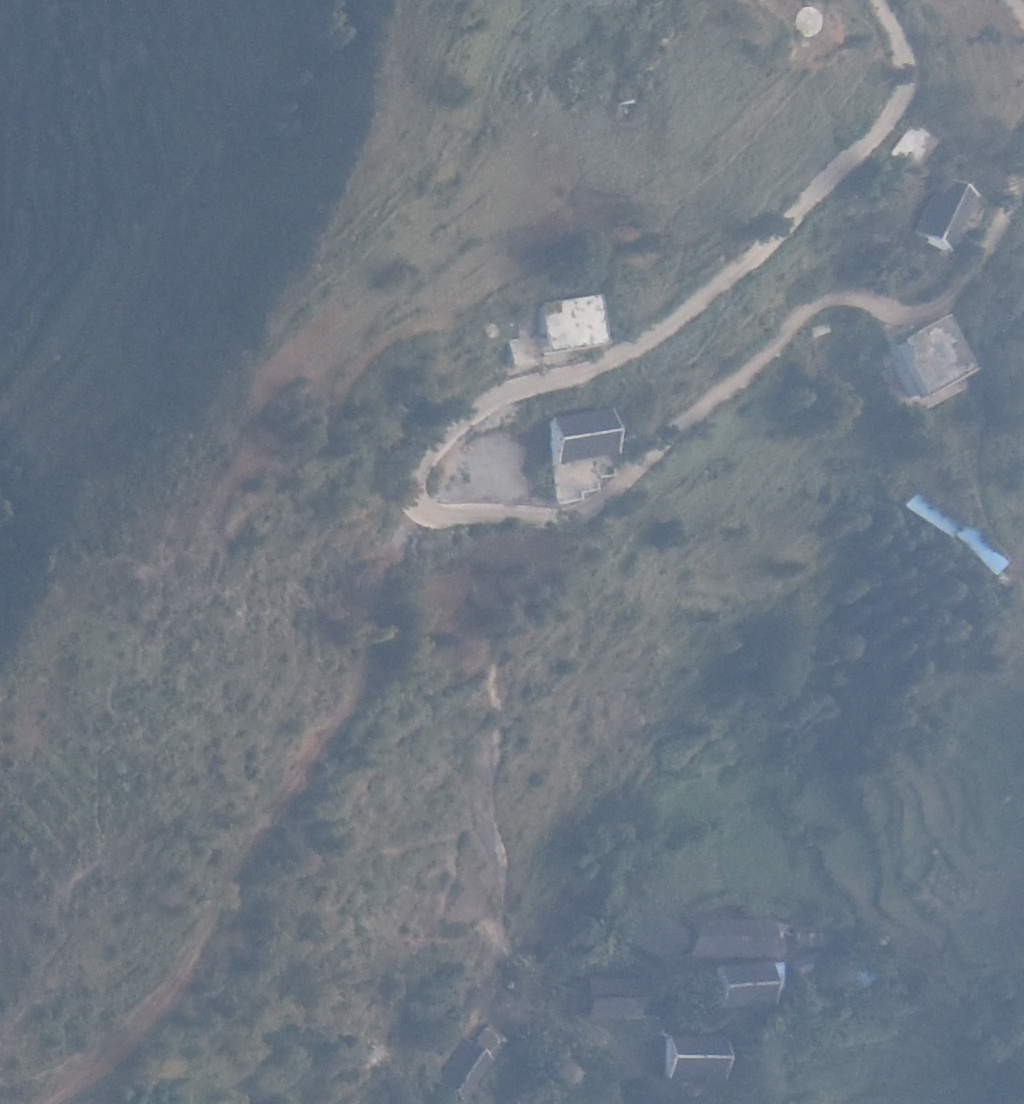building: (896, 312, 981, 400), (537, 294, 613, 356), (916, 179, 982, 250), (689, 916, 787, 959), (552, 409, 627, 463), (434, 1039, 498, 1100), (666, 1034, 736, 1081), (718, 962, 783, 1008), (585, 974, 650, 1018), (891, 126, 941, 168)
prefabricated-house: (959, 522, 1012, 577), (906, 490, 961, 533)
well: (794, 5, 825, 35), (484, 322, 501, 339)
